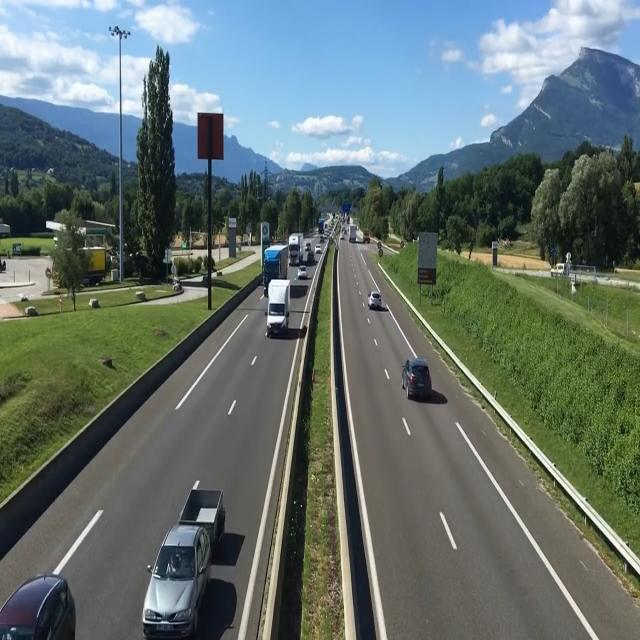car: (139, 477, 220, 638), (0, 570, 78, 640), (264, 280, 293, 340), (403, 354, 435, 404), (366, 289, 384, 313), (298, 266, 308, 282)
truck: (262, 246, 288, 278), (288, 231, 302, 265), (348, 224, 357, 245)
